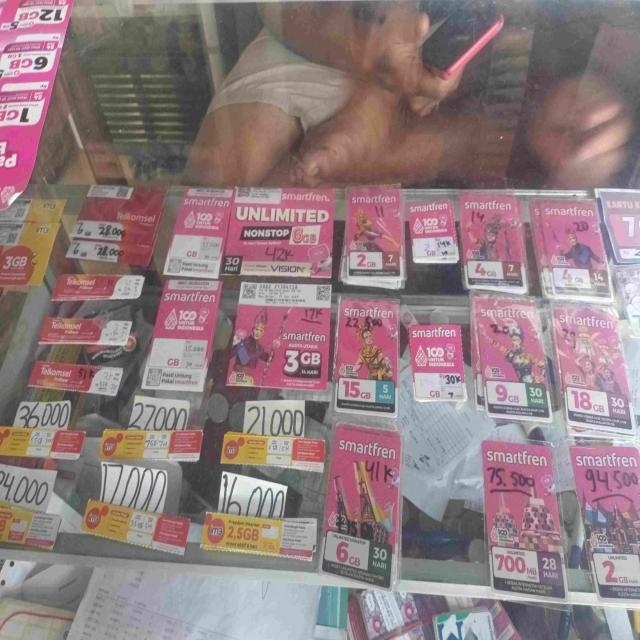Telkomsel: (72, 178, 161, 273), (26, 352, 123, 398), (39, 311, 134, 347), (49, 270, 148, 300)
im3: (82, 492, 193, 555), (202, 509, 316, 566), (219, 423, 329, 479), (0, 198, 53, 291), (98, 426, 206, 468), (1, 414, 85, 466), (1, 495, 63, 552)
smartfren: (167, 180, 332, 279), (480, 440, 567, 594), (228, 281, 333, 397), (333, 418, 404, 586), (572, 436, 640, 596), (552, 302, 634, 428), (471, 295, 551, 417), (141, 281, 223, 393), (334, 289, 400, 417), (532, 190, 610, 296), (460, 192, 528, 295), (341, 183, 404, 288), (406, 315, 470, 406), (408, 193, 457, 270), (601, 188, 639, 262), (325, 589, 338, 590)
